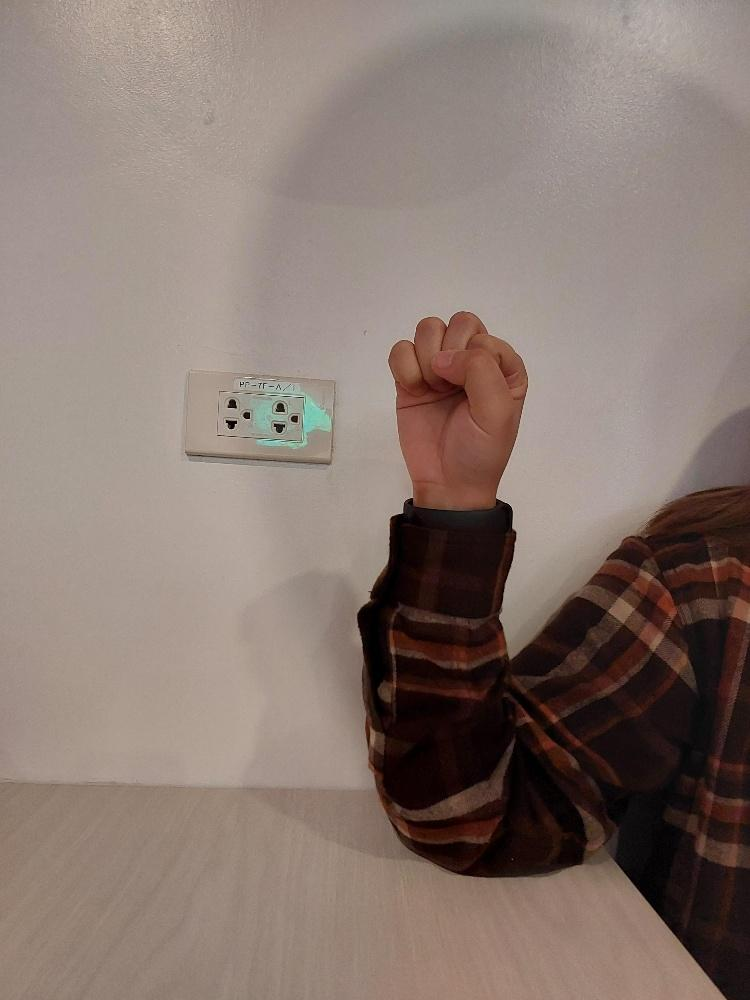s: (383, 305, 530, 503)
